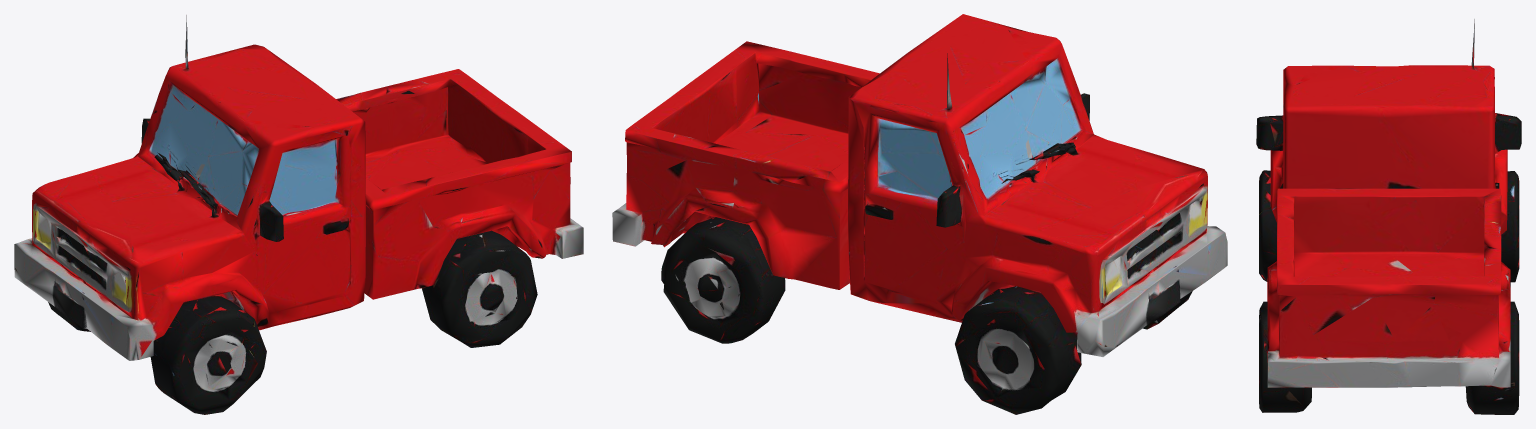
The model's file is pickup.glb.
3 views of the same model, side by side, from view 1: azimuth 30°, elevation 25°; view 2: azimuth 150°, elevation 25°; view 3: azimuth 270°, elevation 25° (orthographic). The views are drawn at different scales.
Size of the model in its own units: 1.9 by 1.22 by 0.9758.
1 material, 1 textured.
